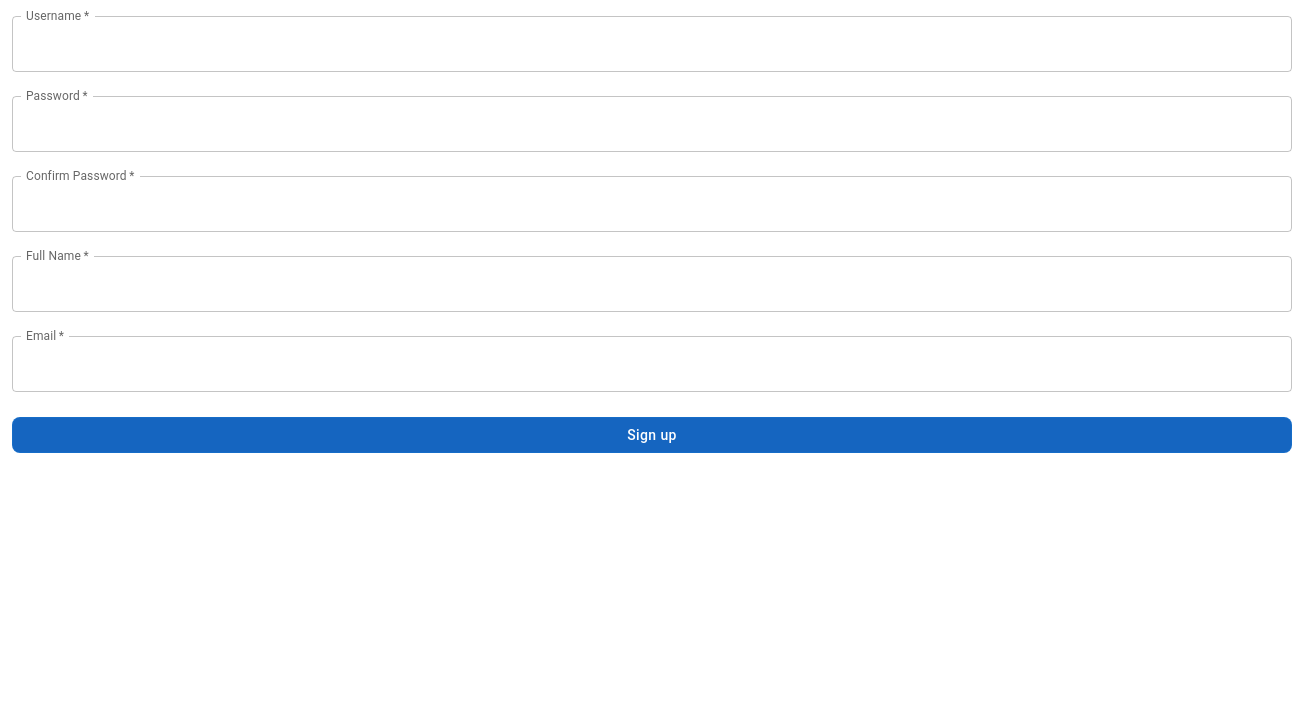
Test case: Register Form › displays errors and does not submit the form with invalid data
This screenshot has width=1304, height=720.
Type "myUsername" into the field labelled "Username" at (652, 44), box [12,16,1292,72]
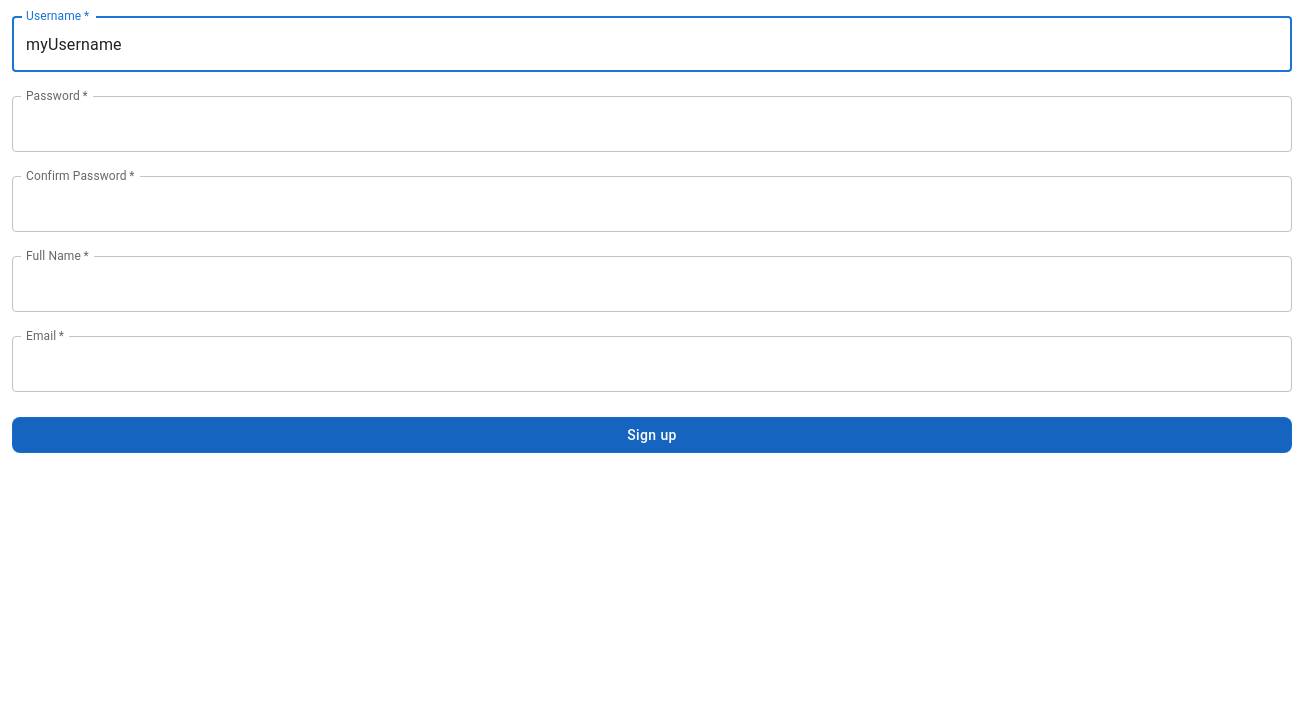
Type "nope" into the element with test id "pw" at (652, 124), box [12,96,1292,152]
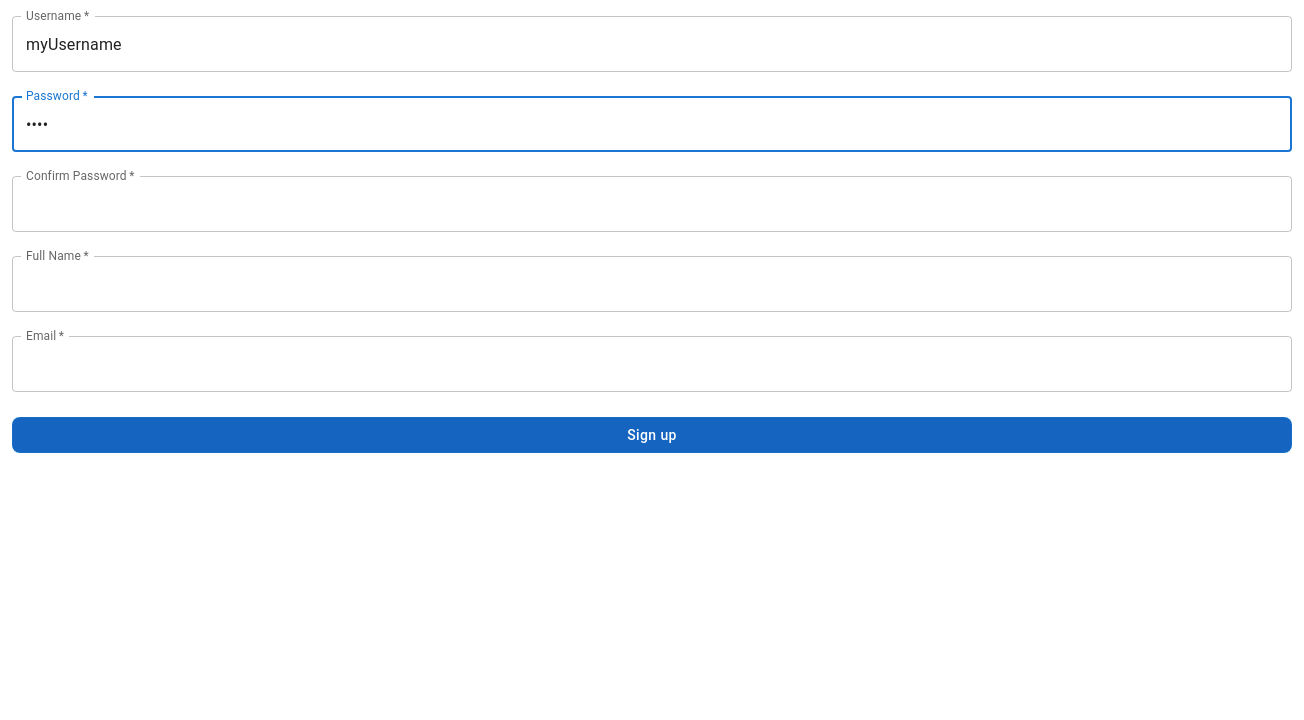
Type "nope" into the element with test id "confirm-pw" at (652, 204), box [12,176,1292,232]
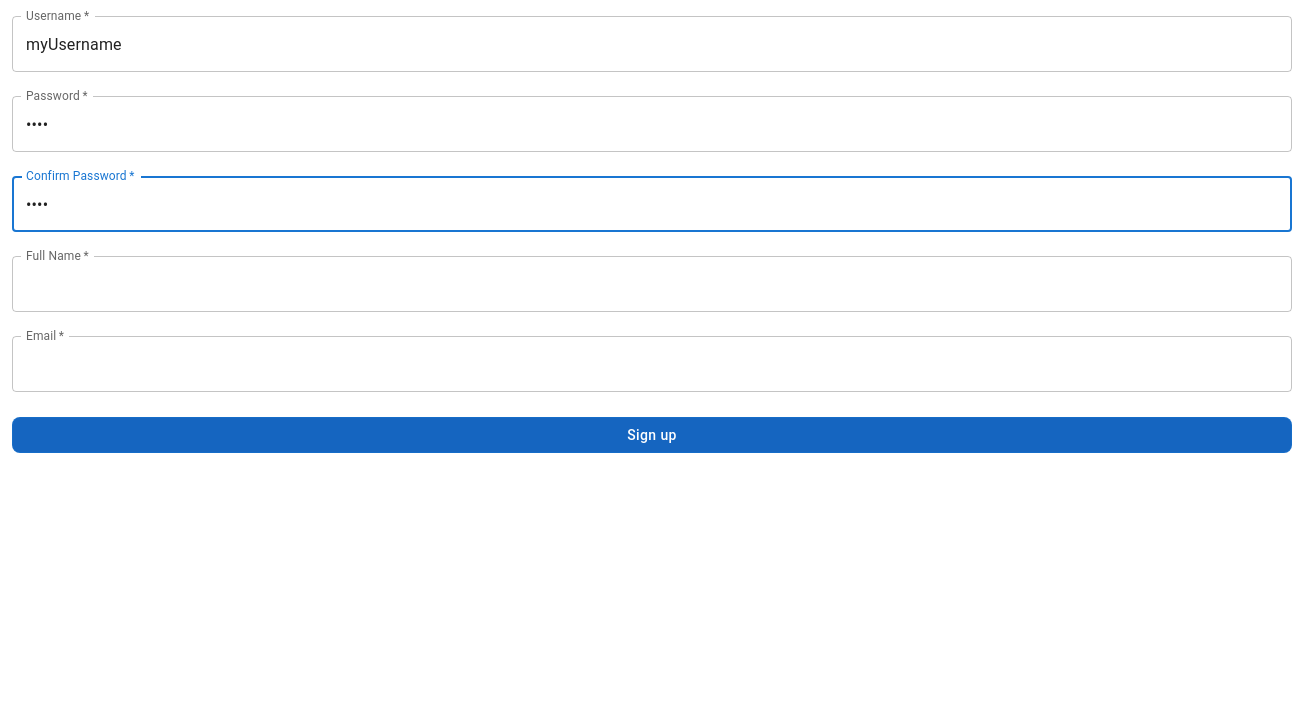
Type "Joe Schmoe" into the field labelled "Full Name" at (652, 284), box [12,256,1292,312]
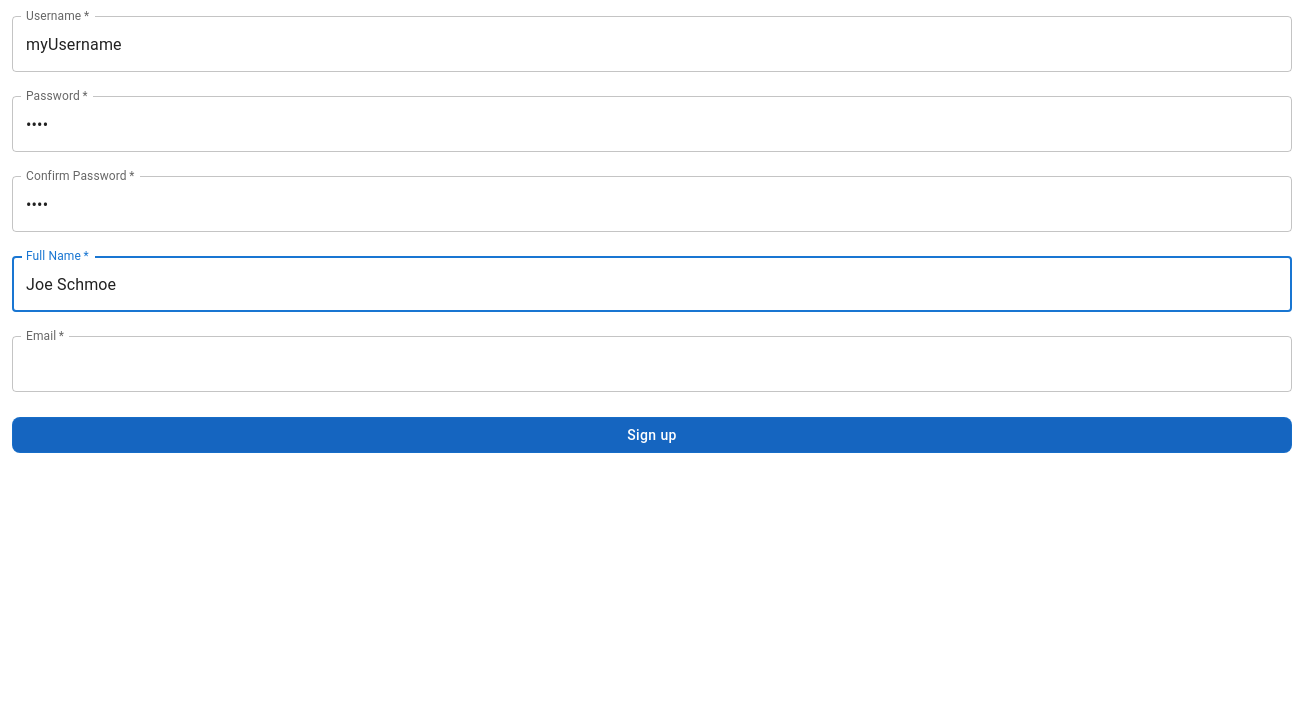
Type "not-an-email" into the field labelled "Email" at (652, 364), box [12,336,1292,392]
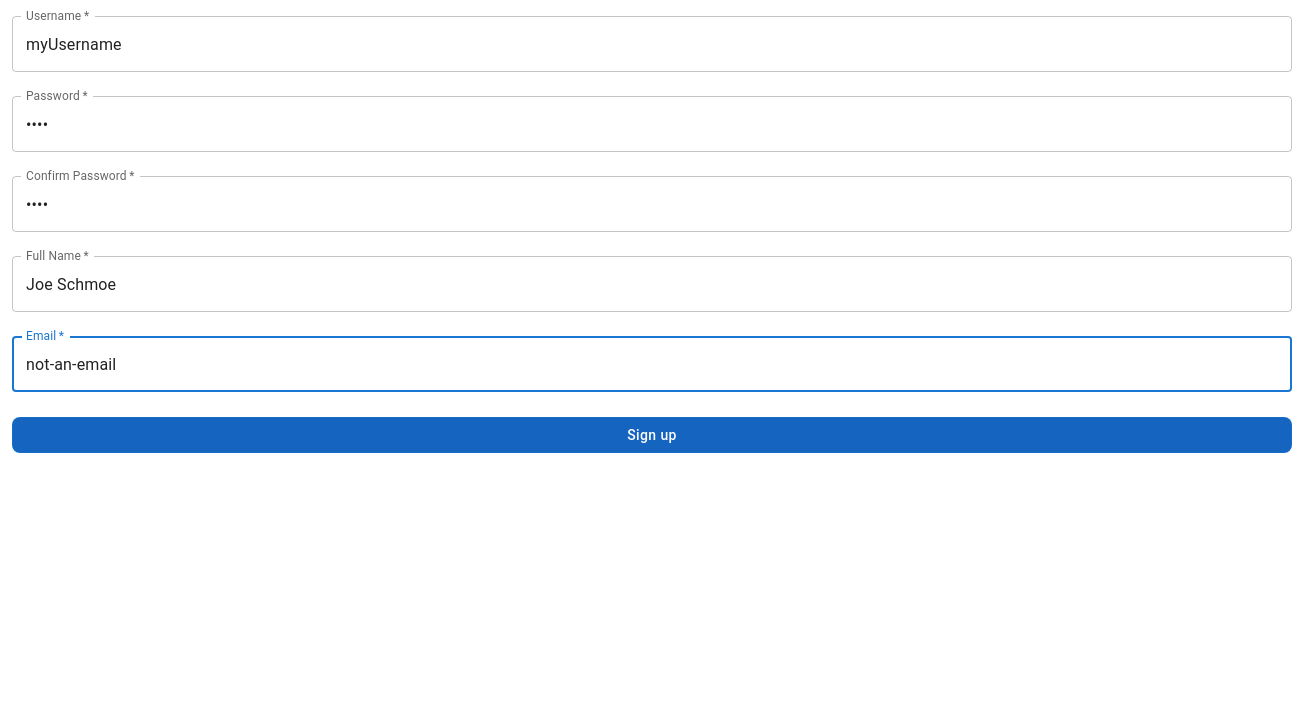
Click the button "Sign up" at (652, 435), box [12,416,1292,453]
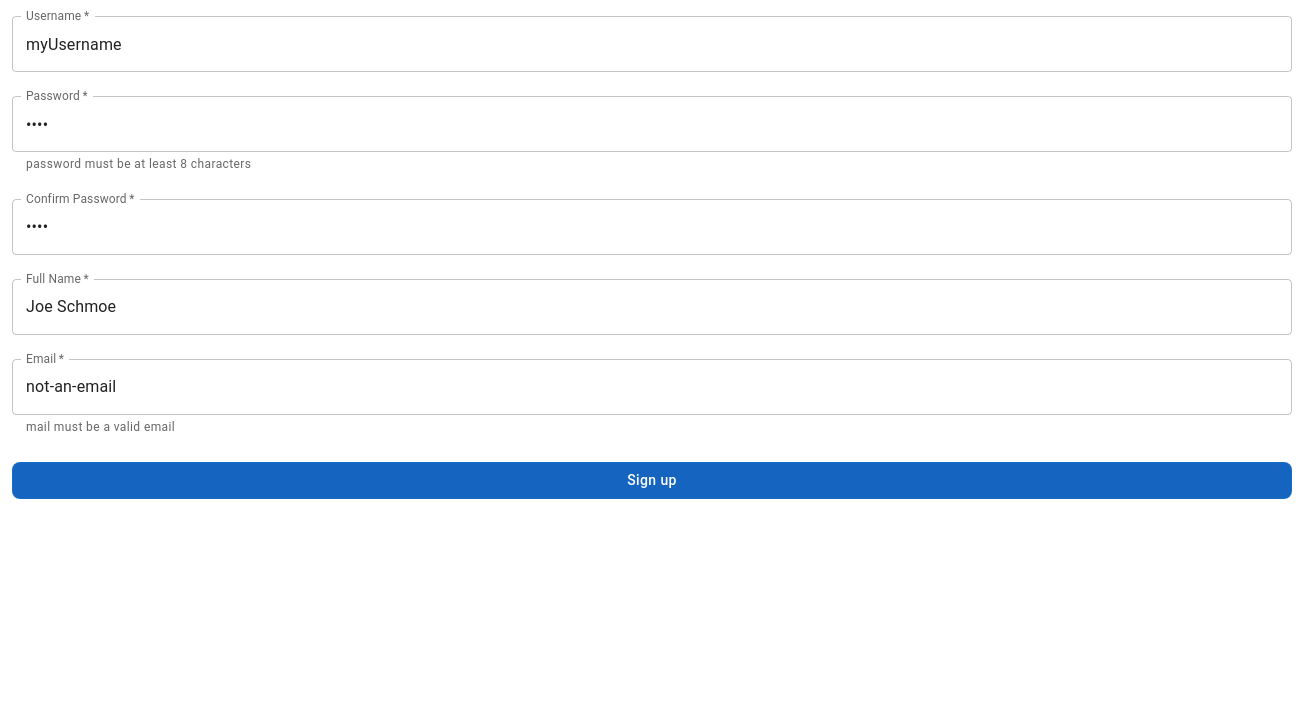
Check: the text "password must be at least 8 characters" is shown, box [26,157,251,171]
Check: the text "mail must be a valid email" is shown, box [26,420,175,434]
